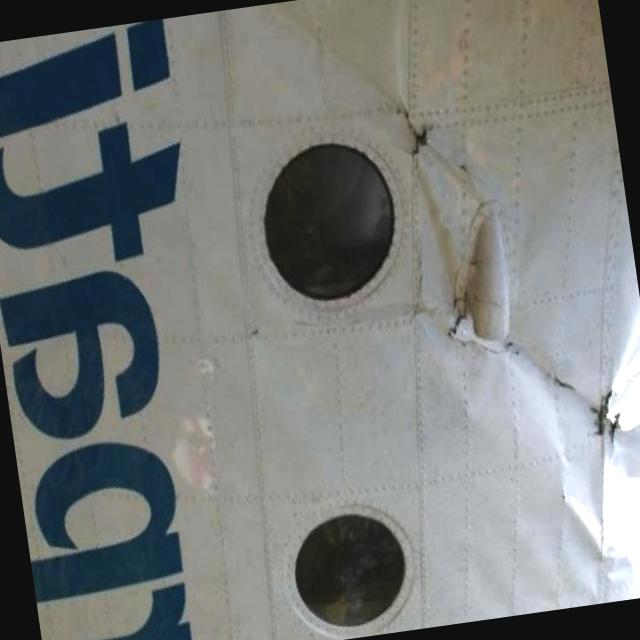crack: (552, 362, 628, 454), (396, 100, 441, 165)
dent: (538, 329, 640, 589)
